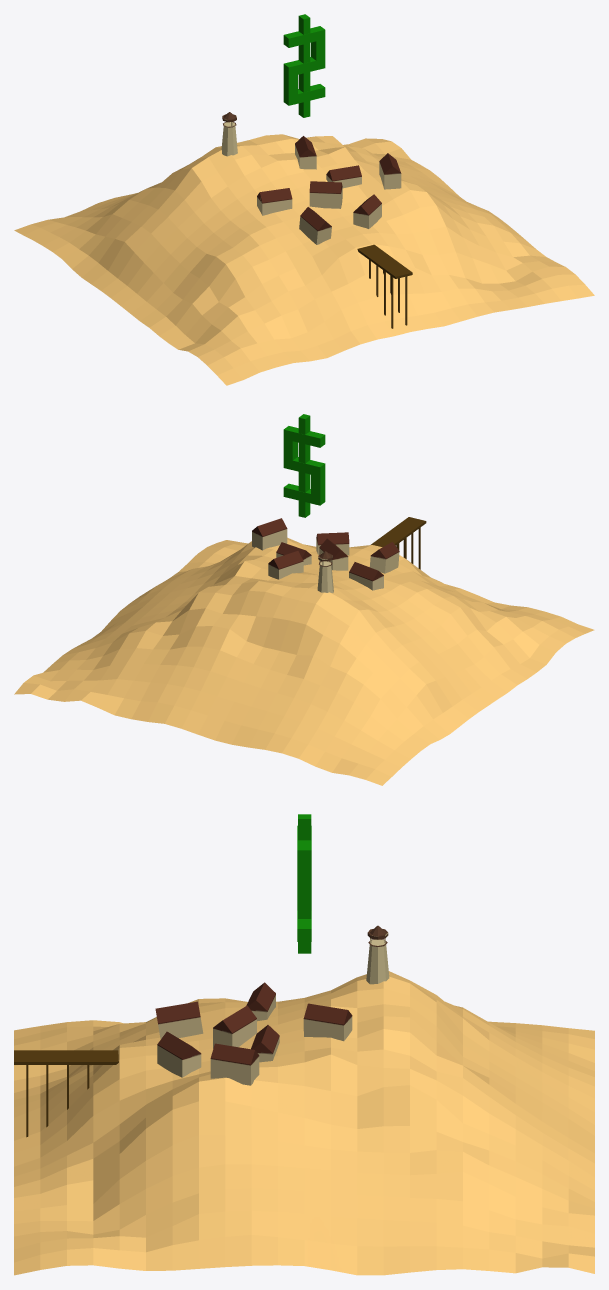
File: StoreIsland fbx.fbx
The picture shows the model from 3 angles, top to bottom: view 1: azimuth 30°, elevation 25°; view 2: azimuth 150°, elevation 25°; view 3: azimuth 270°, elevation 25°; orthographic projection. The views are drawn at different scales.
Parts seen in each view (by area): view 1: Suelo, Dolar, Dock, Tienda.002, Tienda, Tienda.006, Tienda.001, Tienda.003, Faro, Tienda.005, Tienda.004; view 2: Suelo, Dolar, Dock, Tienda.003, Tienda.004, Tienda, Tienda.006, Faro, Tienda.002, Tienda.001; view 3: Suelo, Dock, Dolar, Tienda.003, Tienda.004, Tienda.001, Tienda, Tienda.002, Faro, Tienda.006, Tienda.005.
Part boxes in pixels (x1,y1,x2,y2): Suelo: (14,134,594,385); Dolar: (283,14,325,117); Dock: (357,244,412,328); Tienda.002: (309,181,342,208); Tienda: (299,207,331,244); Tienda.006: (257,188,292,215); Tienda.001: (353,194,381,228); Tienda.003: (379,153,401,189); Faro: (221,112,237,156); Tienda.005: (326,165,361,188); Tienda.004: (295,136,316,169); Suelo: (14,537,594,785); Dolar: (283,414,325,517); Dock: (371,517,426,569); Tienda.003: (252,518,287,550); Tienda.004: (268,551,303,579); Tienda: (369,542,399,573); Tienda.006: (349,562,383,590); Faro: (317,551,333,593); Tienda.002: (319,538,348,570); Tienda.001: (316,532,349,555); Suelo: (14,971,594,1275); Dock: (14,1050,118,1137); Dolar: (297,814,311,953); Tienda.003: (210,1043,259,1085); Tienda.004: (303,1003,352,1041); Tienda.001: (157,1031,201,1077); Tienda: (155,1001,203,1039); Tienda.002: (213,1005,256,1048); Faro: (366,925,389,984); Tienda.006: (246,982,275,1021); Tienda.005: (251,1025,279,1062).
Bounding box in the file's own units: 200 × 128 × 200.
Materials: 5 (4 with a texture image).
